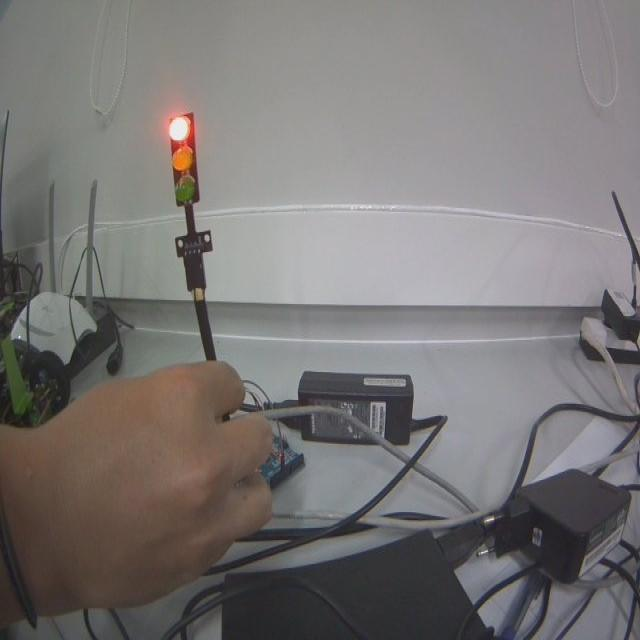Lampu Merah: (166, 110, 199, 206)
